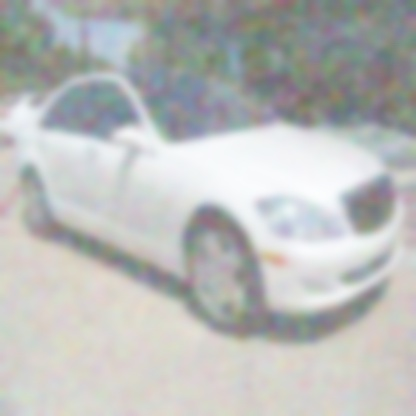Vehicle: (12, 67, 406, 332)
